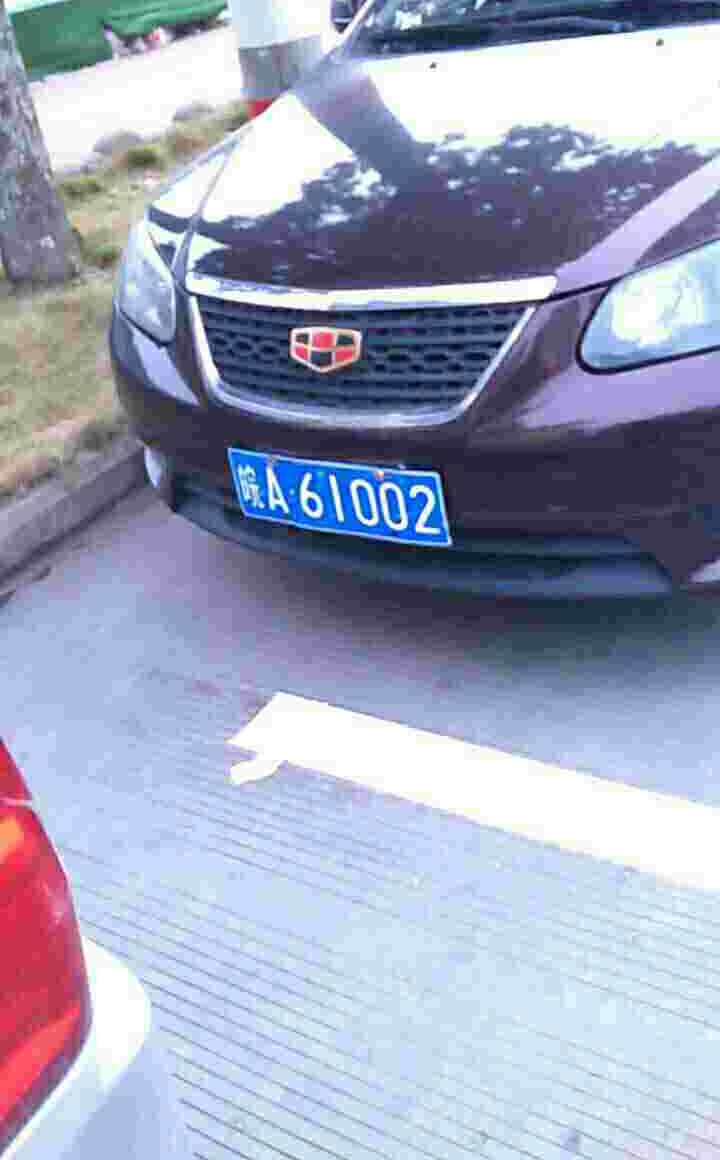plate: (220, 444, 454, 552)
